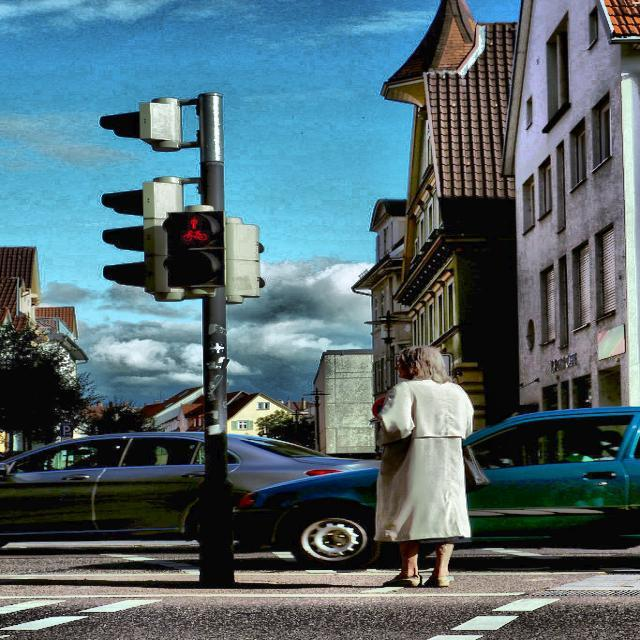red_light: (188, 217, 198, 230)
